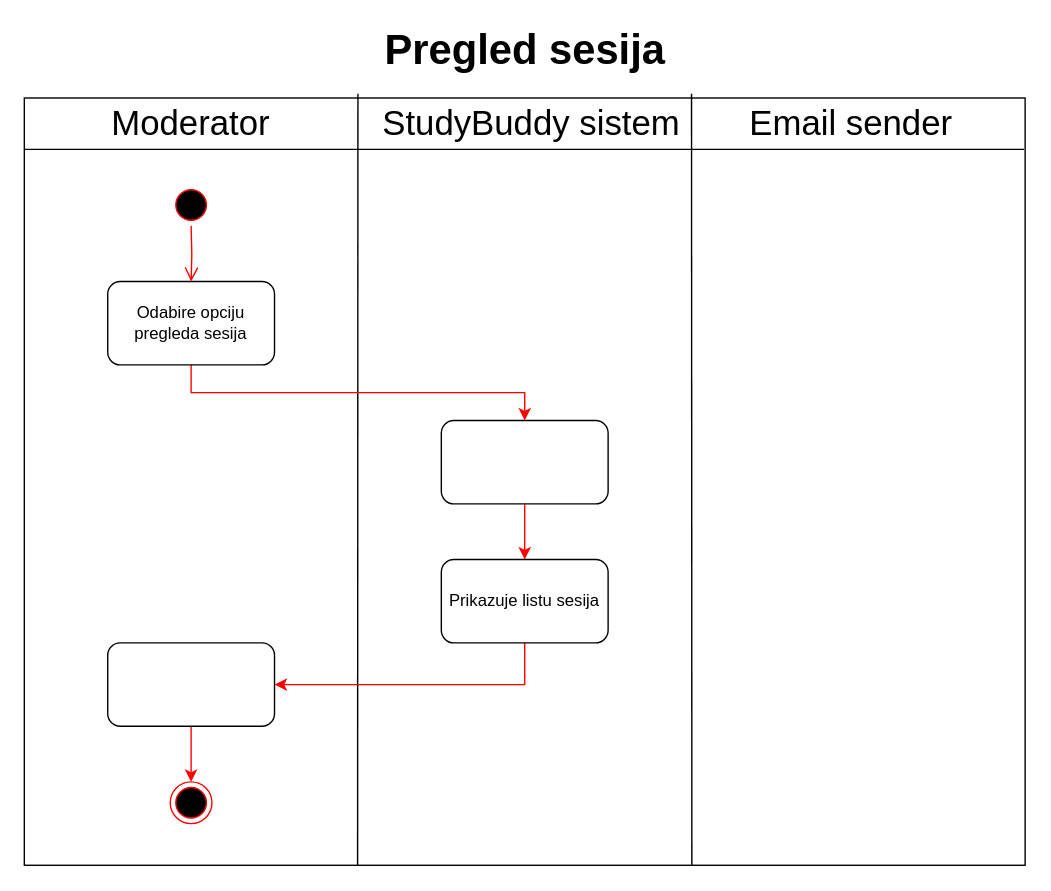
Some shapes in this 1051 by 891 pixel diagram are drawn without their labels. The centre of each missing label's shape, as x and y in pixels:
Dohvaća listu sesija: [524,461]
Pregleda sesije: [190,683]
